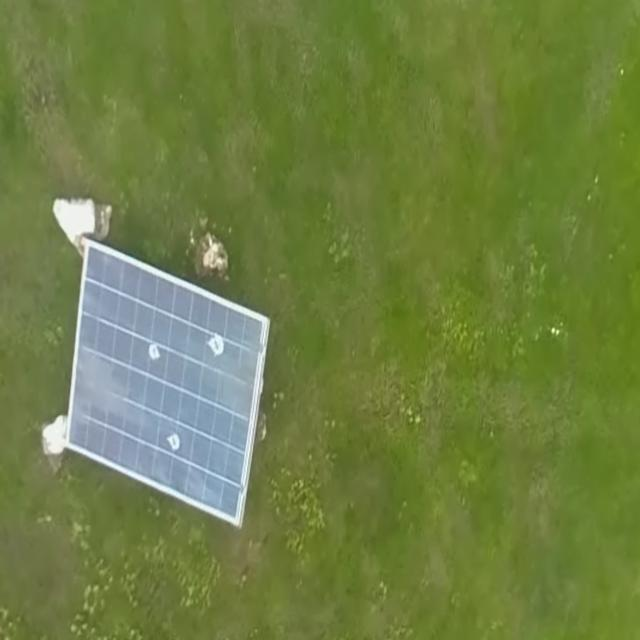Bird-drop: (208, 334, 225, 356), (166, 431, 181, 451), (148, 343, 160, 358)
